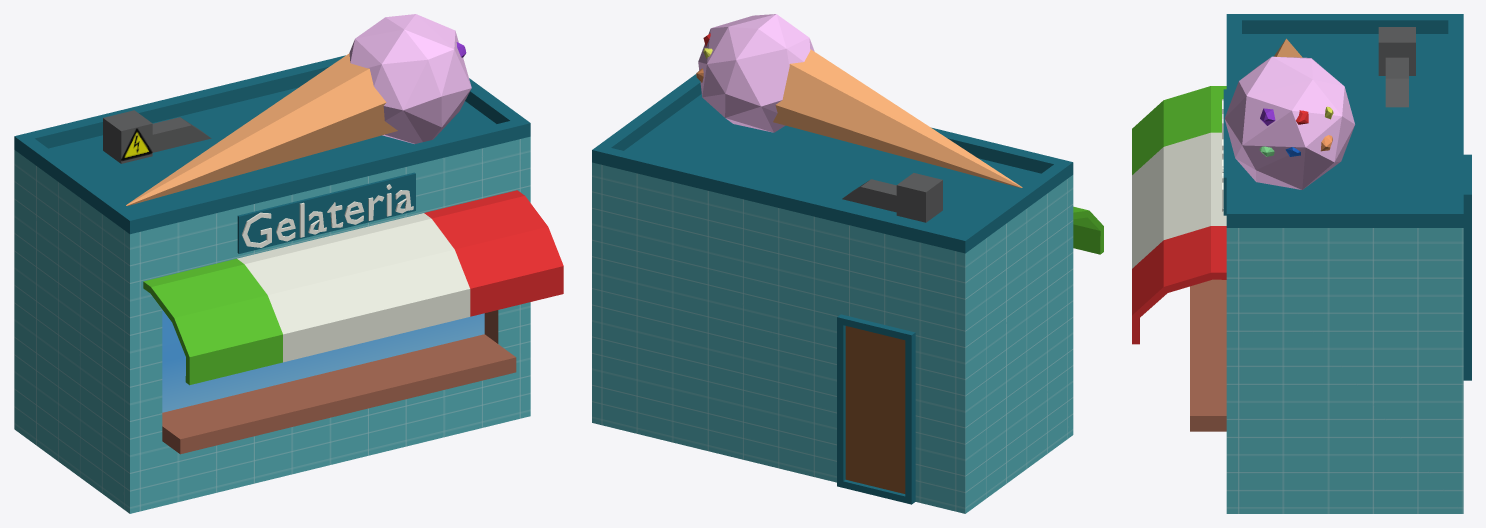
File: IceCream_Shop.fbx
3 views of the same model, side by side, from view 1: azimuth 30°, elevation 25°; view 2: azimuth 150°, elevation 25°; view 3: azimuth 270°, elevation 25° (orthographic). The views are drawn at different scales.
Parts seen in each view (by area): view 1: IceCream_Shop; view 2: IceCream_Shop; view 3: IceCream_Shop.
Boxes of the visible parts, <box> form: IceCream_Shop: <box>14,14,563,513</box>; IceCream_Shop: <box>592,14,1103,513</box>; IceCream_Shop: <box>1132,14,1471,513</box>.
Size of the model in its own units: 300 by 283 by 215.
